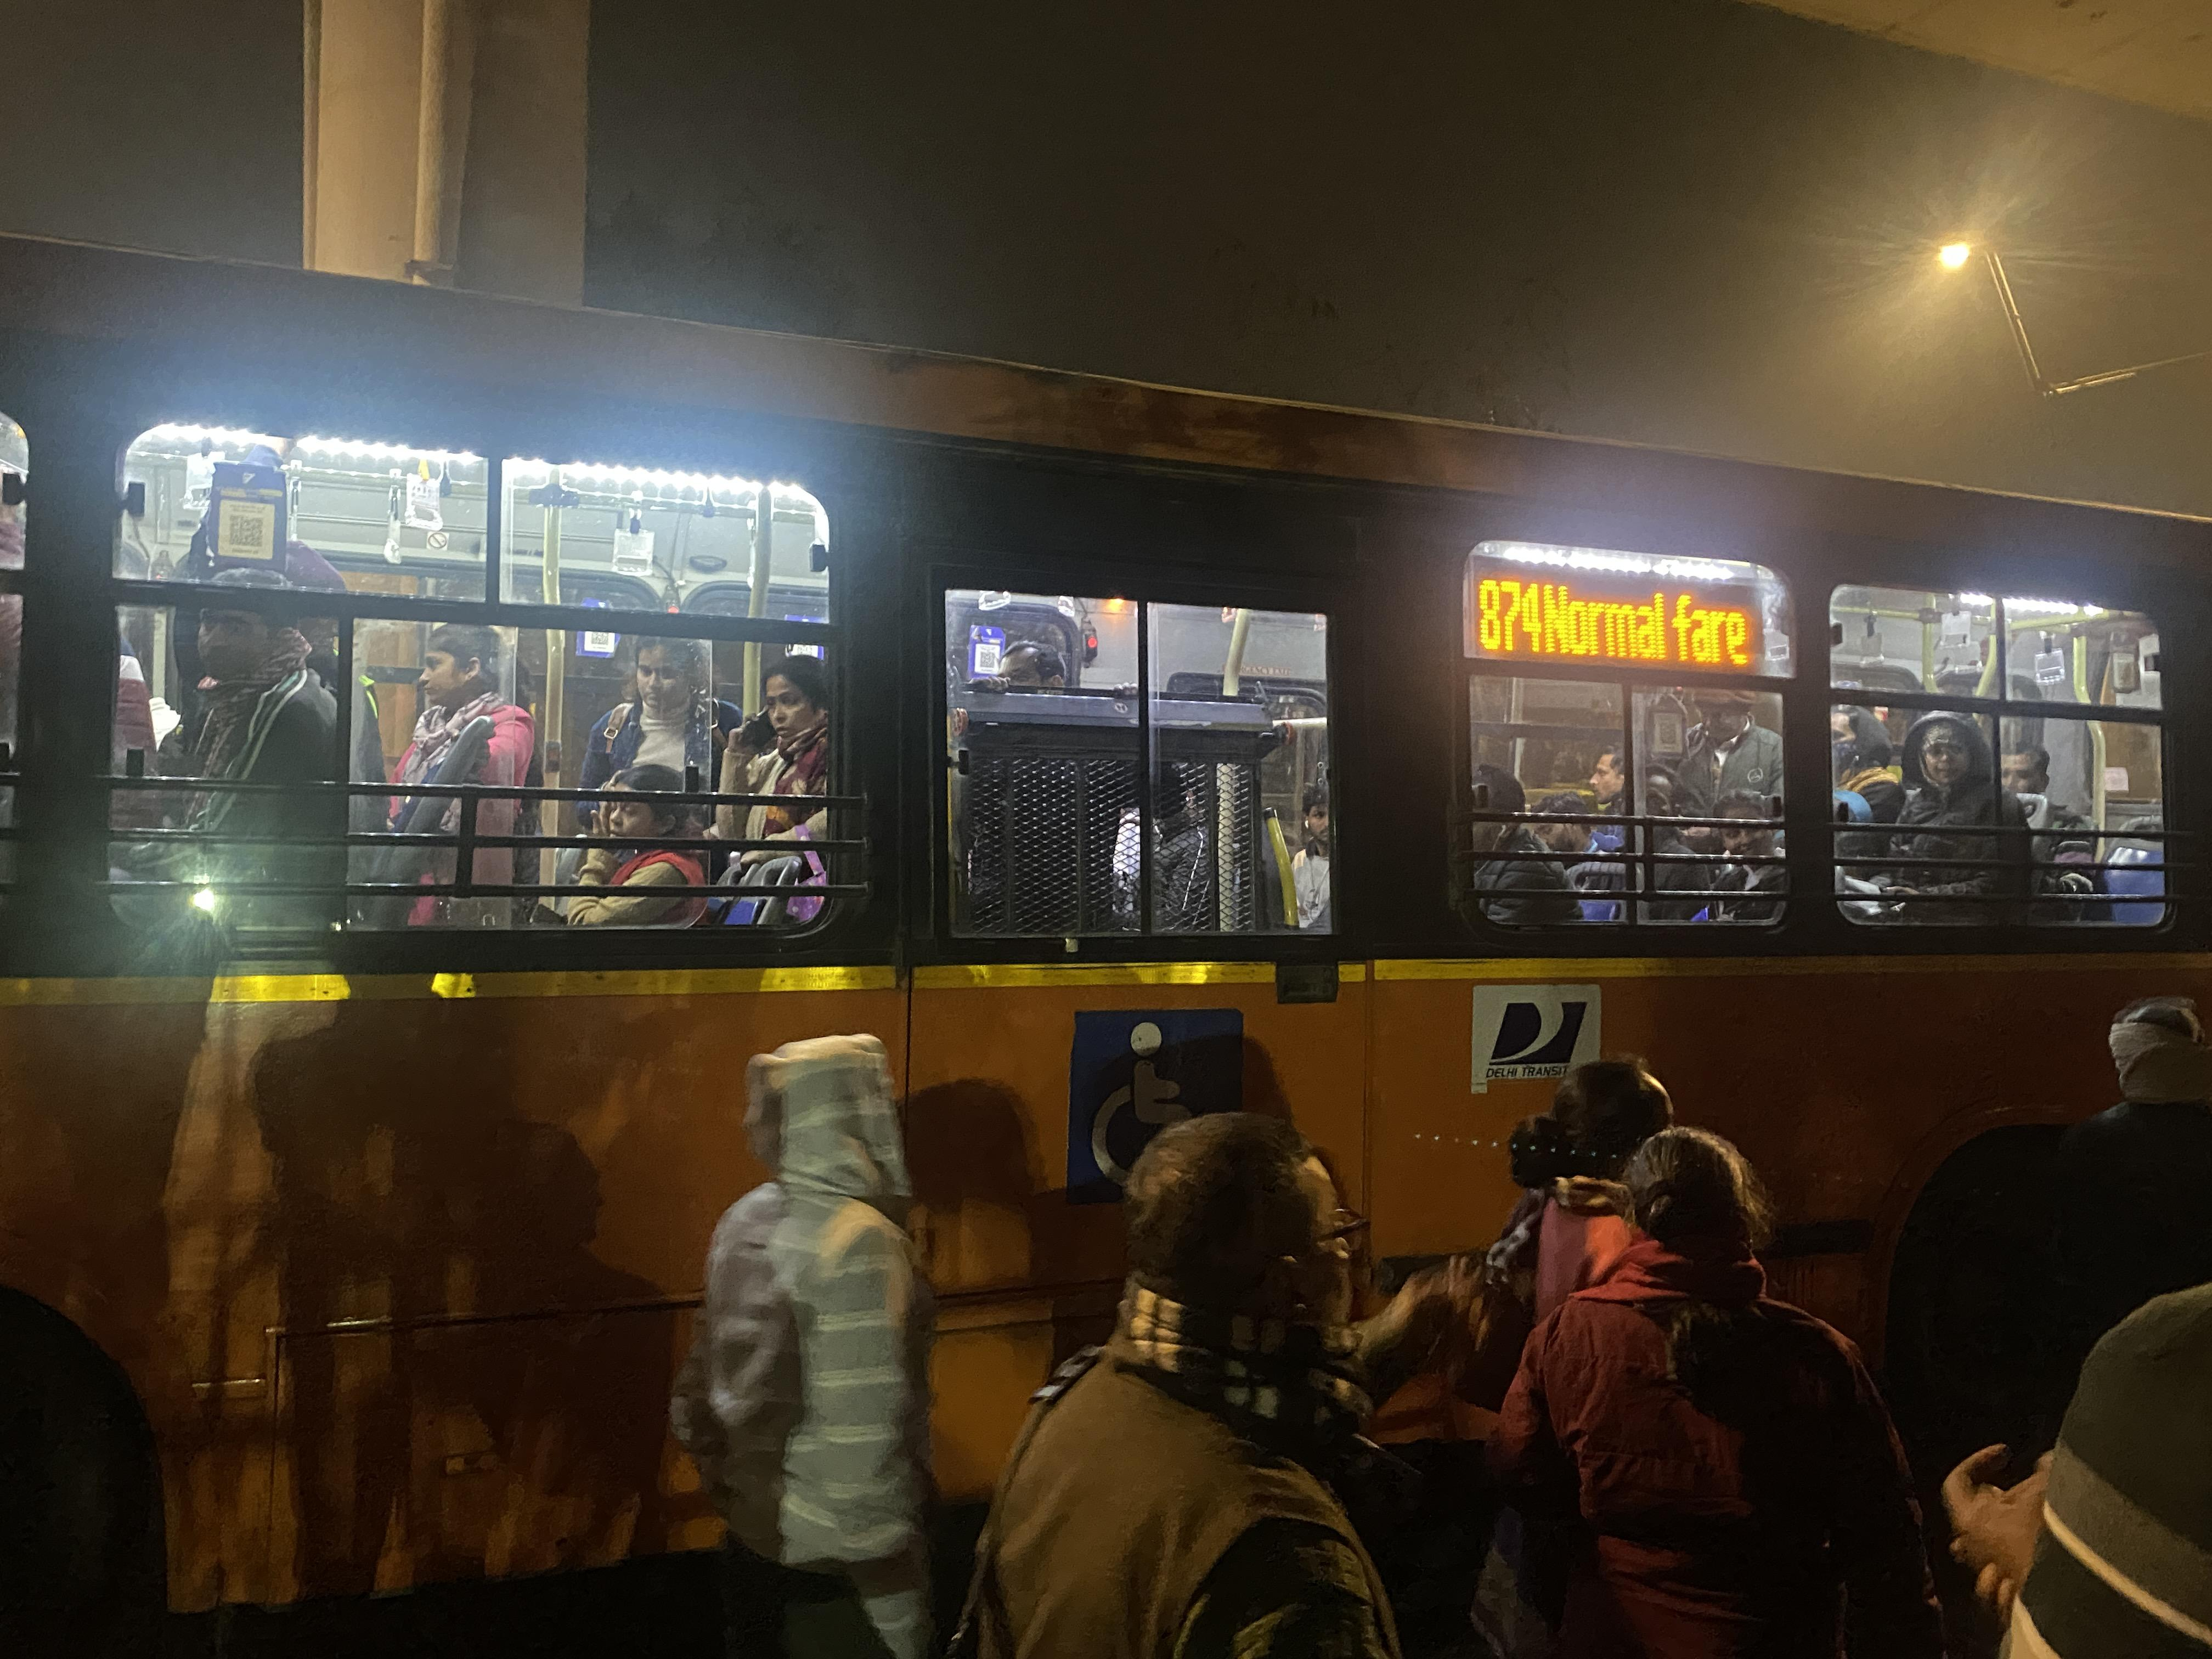Bus: (0, 230, 2212, 1601)
Display Board: (1437, 544, 1810, 697)
